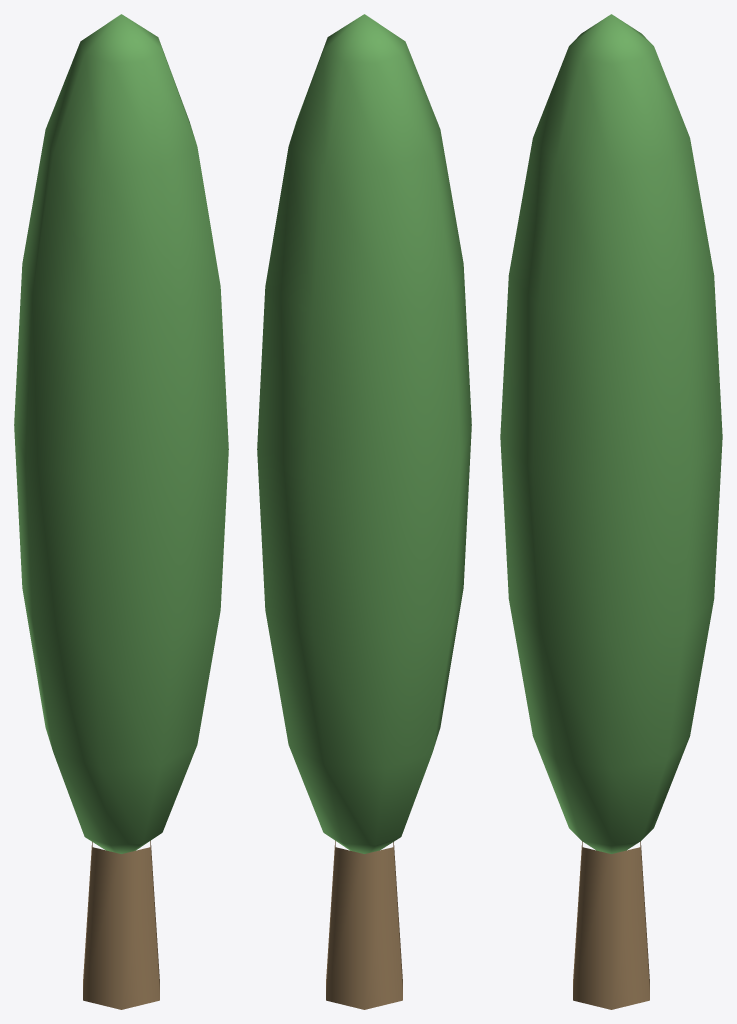
Rendered from tree-columnar.glb.
3 views of the same model, side by side, from view 1: azimuth 30°, elevation 25°; view 2: azimuth 150°, elevation 25°; view 3: azimuth 270°, elevation 25° (orthographic).
Bounding box in the file's own units: 0.2 × 0.97 × 0.2.
